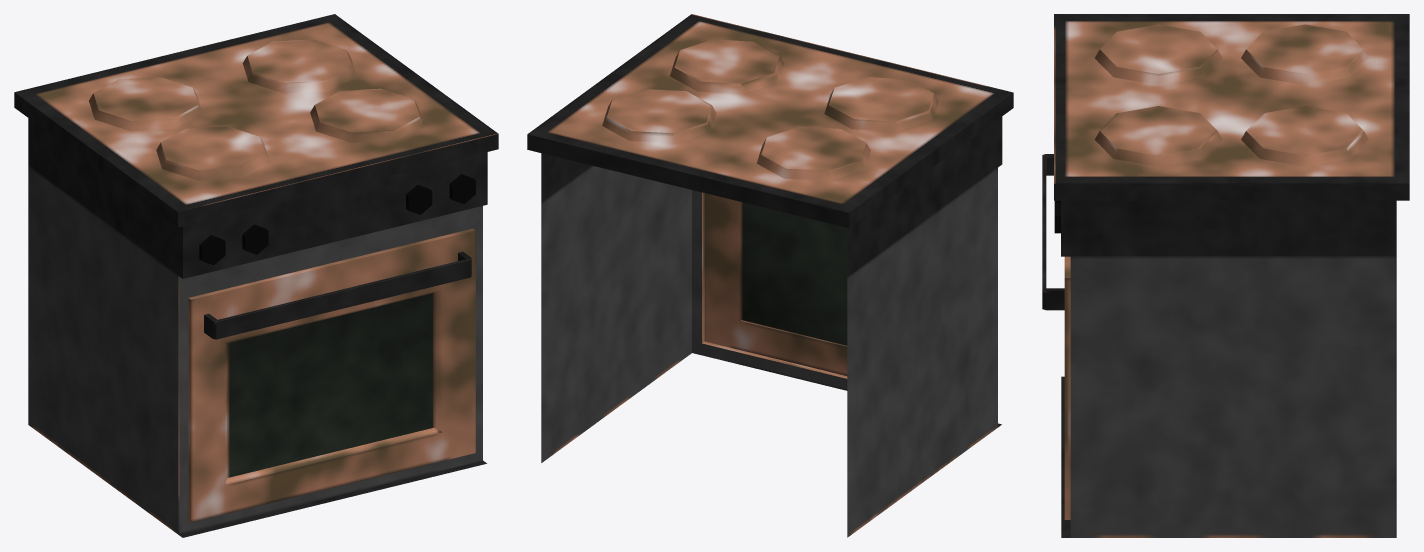
Rendered from Kitchen_Oven_Large.glb.
3 renders of one model, left to right at view 1: azimuth 30°, elevation 25°; view 2: azimuth 150°, elevation 25°; view 3: azimuth 270°, elevation 25°, orthographic. The views are drawn at different scales.
Visible parts, largest first — view 1: Kitchen_Oven_Large, til_02, til_01, til_03, til_04; view 2: Kitchen_Oven_Large; view 3: Kitchen_Oven_Large.
Part boxes in pixels (<box>): Kitchen_Oven_Large: <box>14,14,498,537</box>; til_02: <box>242,224,268,254</box>; til_01: <box>199,235,225,265</box>; til_03: <box>406,184,432,214</box>; til_04: <box>449,174,475,204</box>; Kitchen_Oven_Large: <box>527,14,1013,537</box>; Kitchen_Oven_Large: <box>1042,14,1409,537</box>.
Size of the model in its own units: 1.17 by 1.18 by 1.07.
6 materials, 4 textured.
